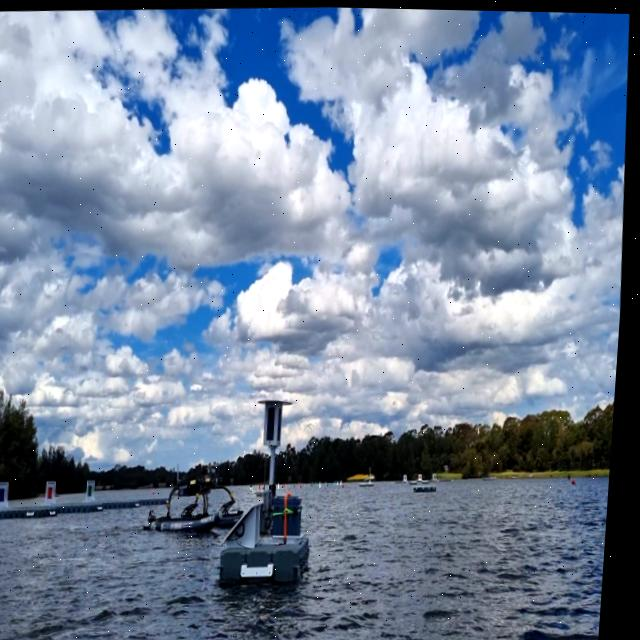led: (270, 403, 283, 442)
